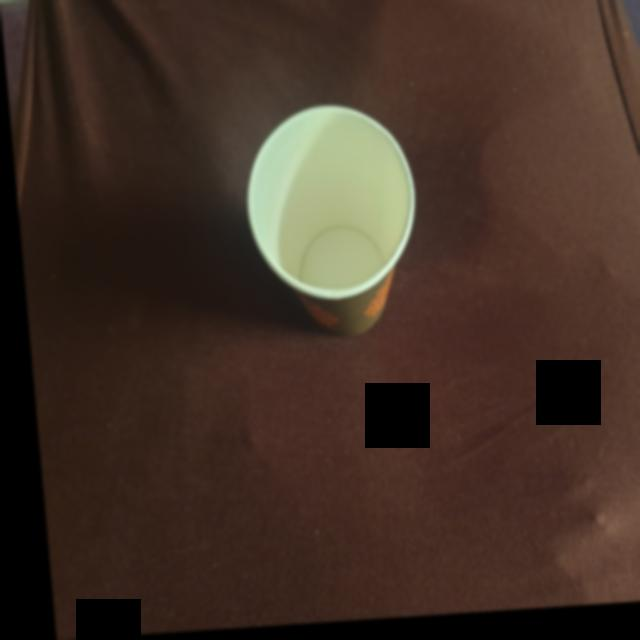cups: (231, 92, 427, 355)
